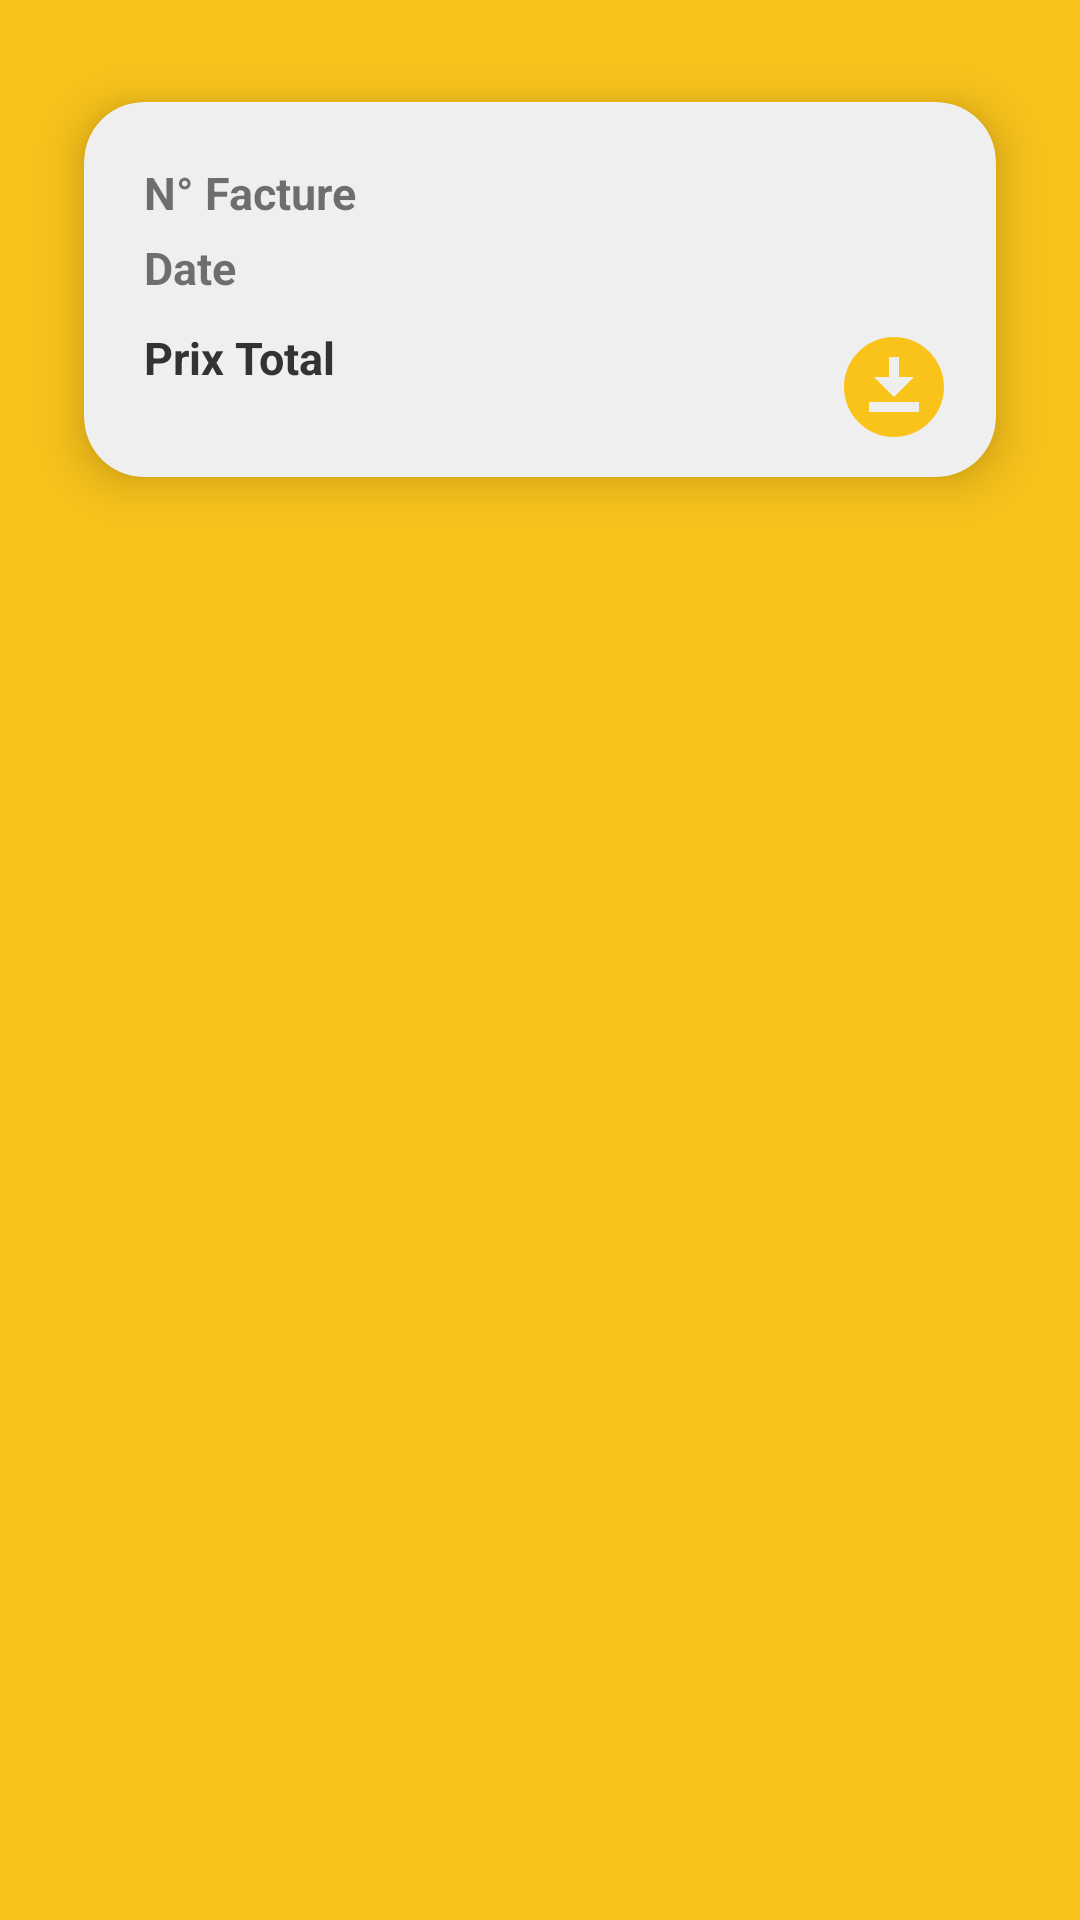

Locate icon controls on the screen. Image size 1080×1920, boxes as (x1, y1, x2, y2).
download for offline: (844, 337, 944, 437)
